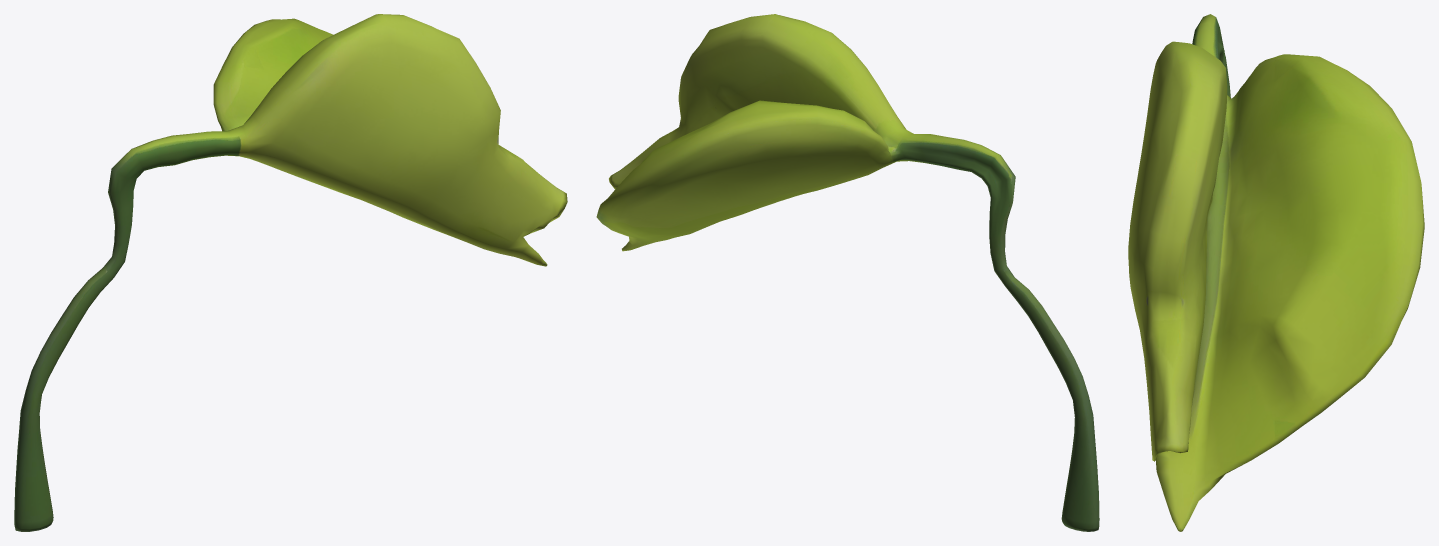
File: monstera_bud_opening2.glb
The picture shows the model from 3 angles, left to right: view 1: azimuth 30°, elevation 25°; view 2: azimuth 150°, elevation 25°; view 3: azimuth 270°, elevation 25°; orthographic projection. The views are drawn at different scales.
Visible parts, largest first — view 1: tripo_node_58ec66f4-08c7-4aff-9ef4-9cf5d963392f; view 2: tripo_node_58ec66f4-08c7-4aff-9ef4-9cf5d963392f; view 3: tripo_node_58ec66f4-08c7-4aff-9ef4-9cf5d963392f.
Part boxes in pixels (left/top/right/bottom): tripo_node_58ec66f4-08c7-4aff-9ef4-9cf5d963392f: left=14, top=14, right=567, bottom=531; tripo_node_58ec66f4-08c7-4aff-9ef4-9cf5d963392f: left=596, top=14, right=1099, bottom=531; tripo_node_58ec66f4-08c7-4aff-9ef4-9cf5d963392f: left=1128, top=14, right=1424, bottom=531.
Bounding box in the file's own units: 0.9947 × 0.7913 × 0.375.
1 material, 1 textured.
